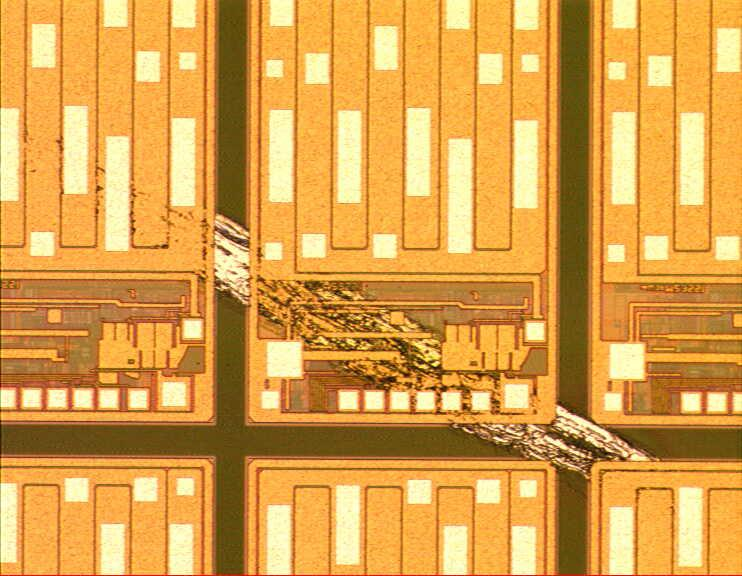SCRATCH: (1, 110, 674, 486)
